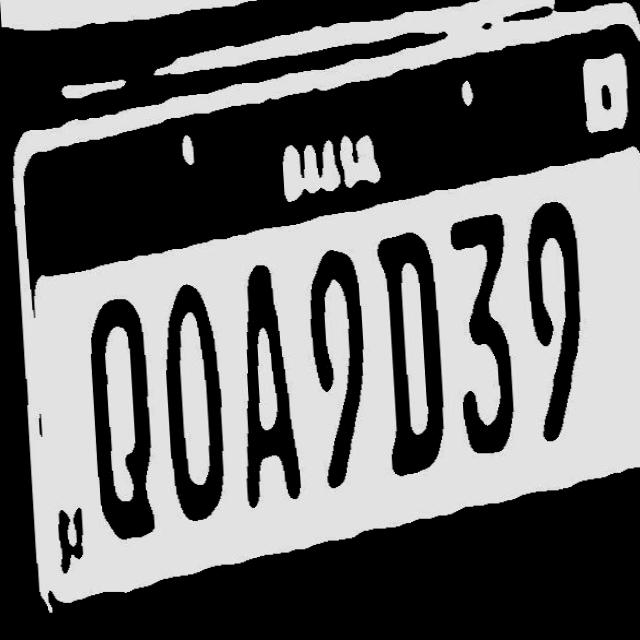3: (444, 212, 514, 456)
9: (515, 198, 586, 441), (302, 245, 370, 492)
a: (227, 263, 297, 510)
d: (370, 231, 446, 476)
o: (156, 281, 226, 522)
q: (82, 297, 151, 542)
